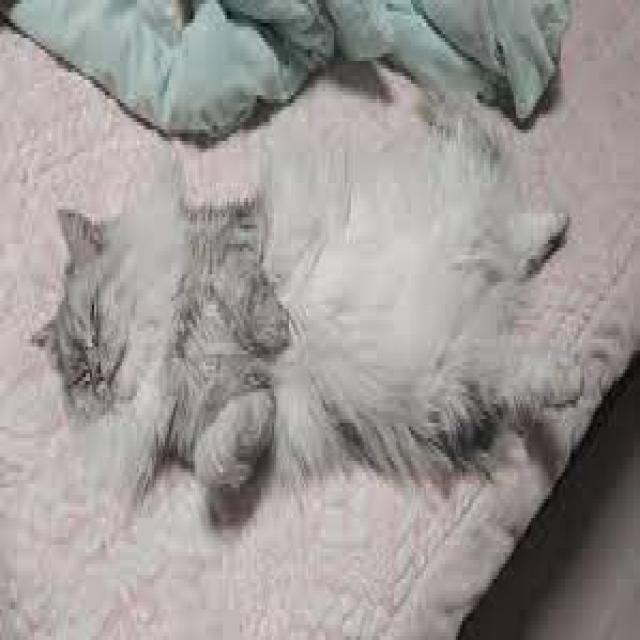cat: (29, 92, 586, 519)
